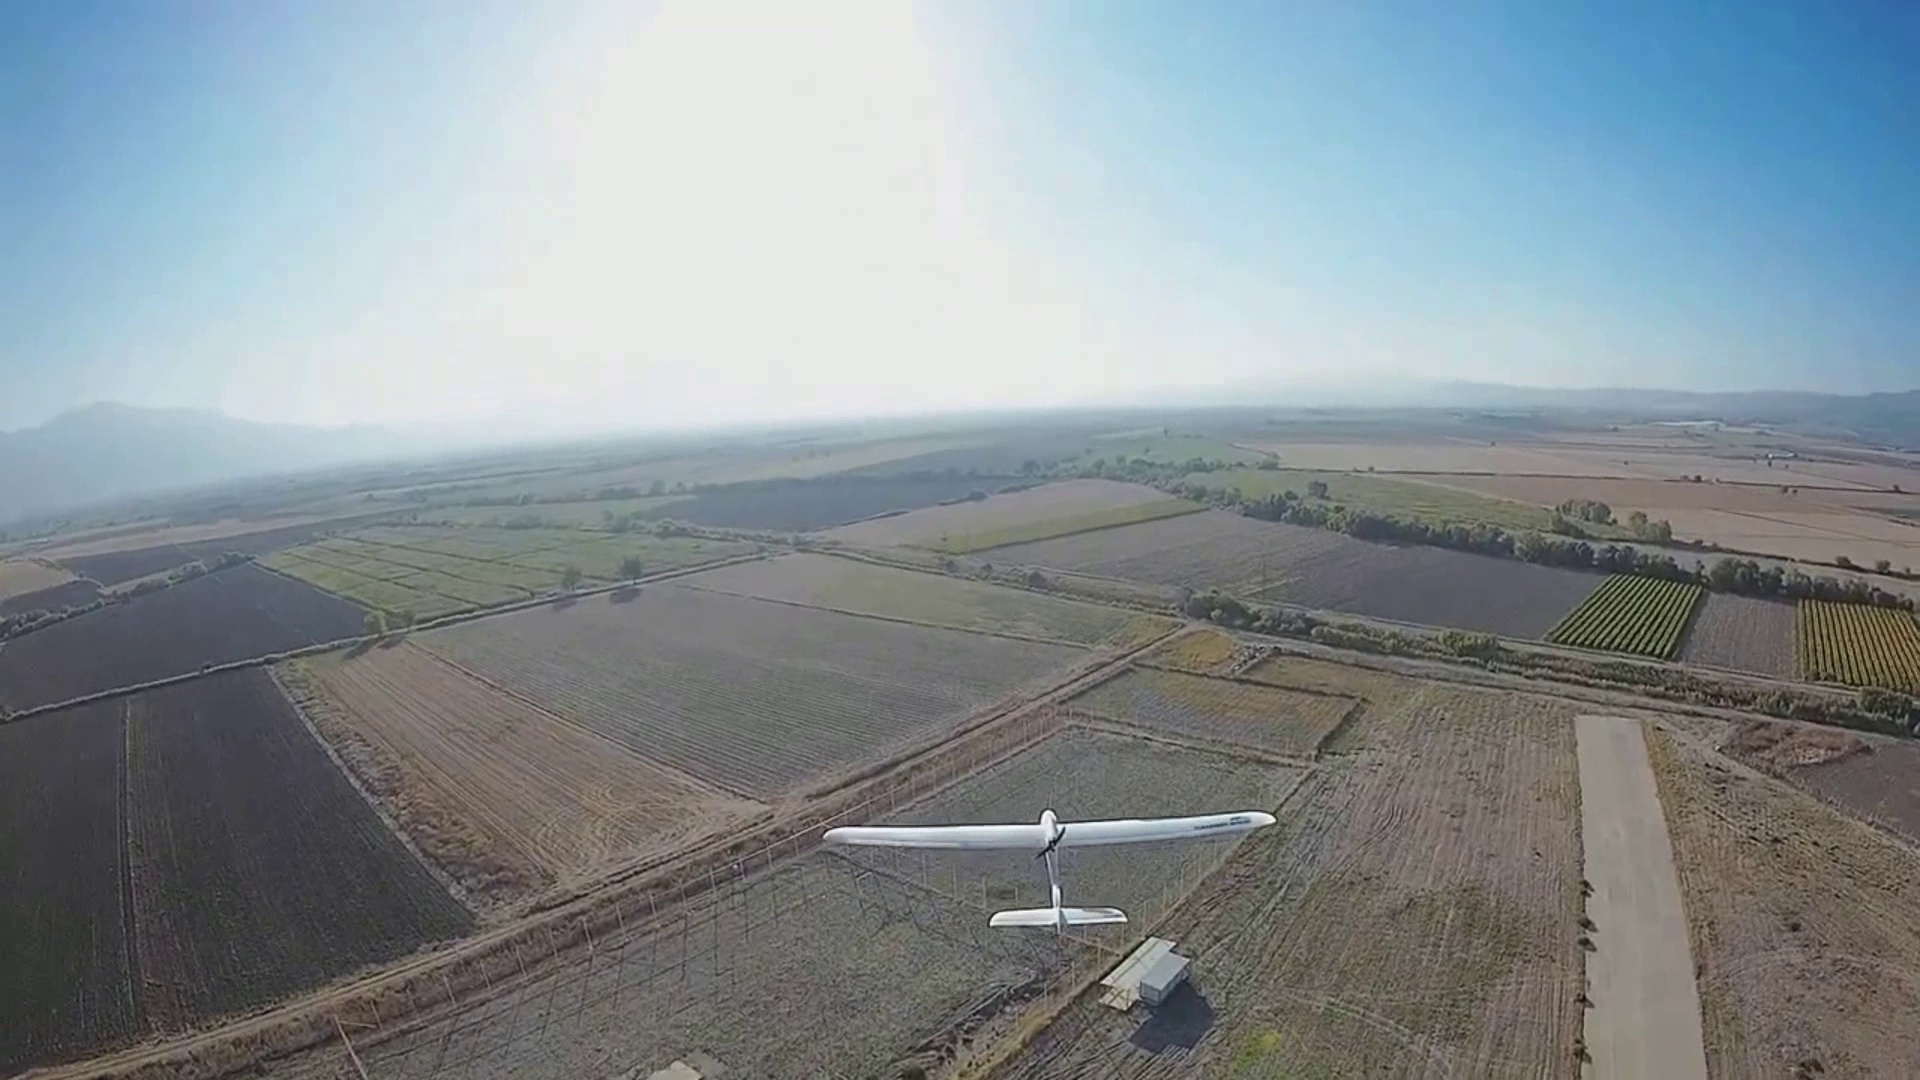airplane: (823, 805, 1271, 936)
